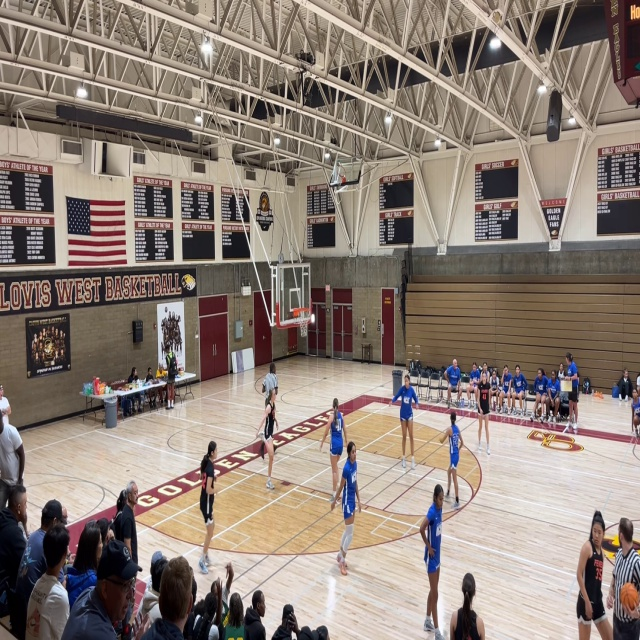Basketball: (620, 583, 639, 611)
